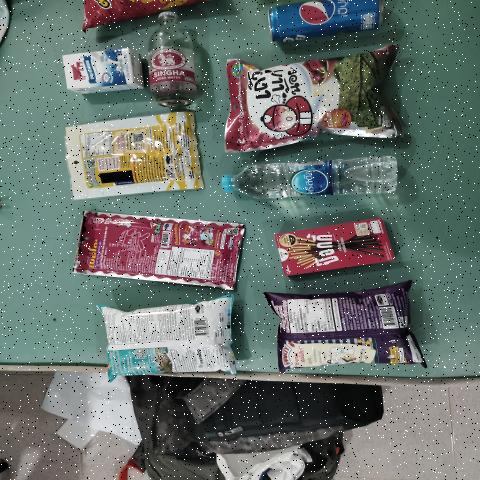crystal: (221, 162, 417, 198)
pepsi_blue: (271, 0, 388, 49)
pokki: (271, 230, 396, 268)
singha_soda: (146, 12, 212, 110)
taokaenoi: (243, 57, 389, 131)
thai_denmark: (60, 50, 140, 89)
